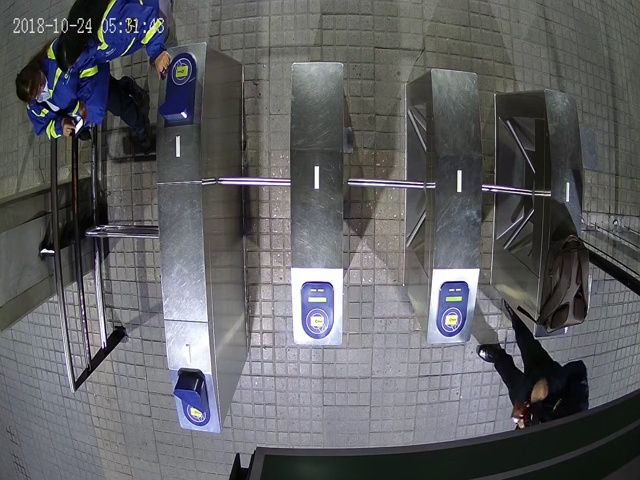Chaleco_azul: (15, 35, 149, 142), (52, 1, 172, 79)
